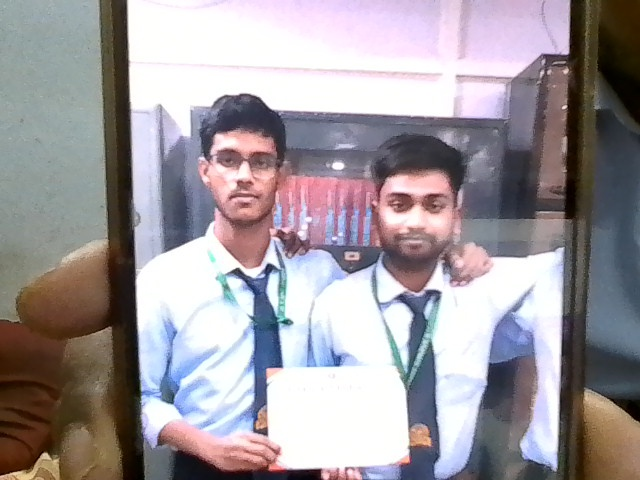real: (361, 130, 467, 281), (191, 93, 296, 242)
